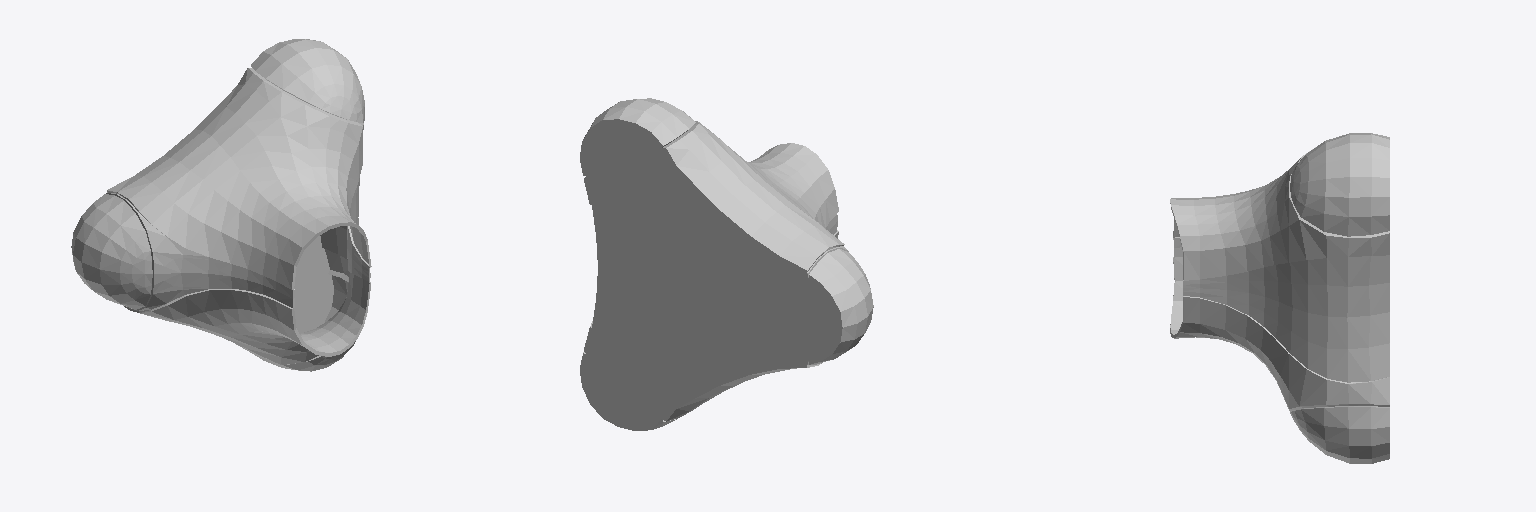
The model's file is KneePitch_0.obj.
3 views of the same model, side by side, from view 1: azimuth 30°, elevation 25°; view 2: azimuth 150°, elevation 25°; view 3: azimuth 270°, elevation 25° (orthographic).
Bounding box in the file's own units: 0.4207 × 0.4673 × 0.2918.